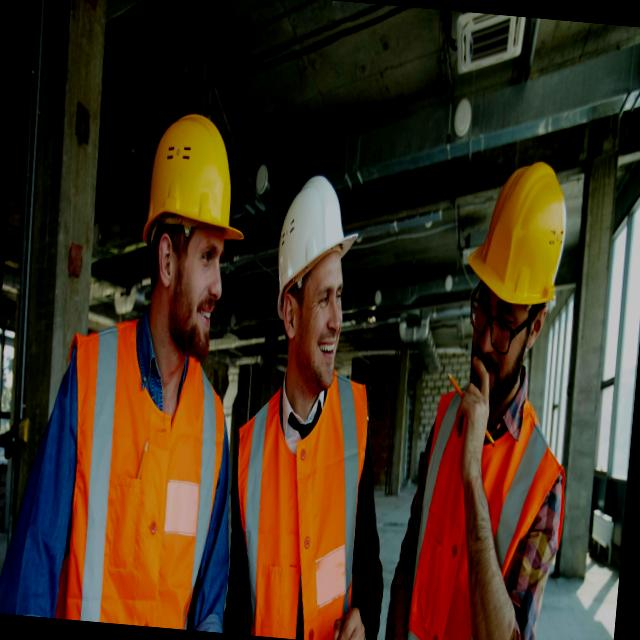helmet: (138, 105, 255, 268), (460, 156, 574, 320), (270, 166, 366, 324)
vest: (31, 304, 249, 632), (225, 338, 389, 640), (400, 371, 569, 640)
